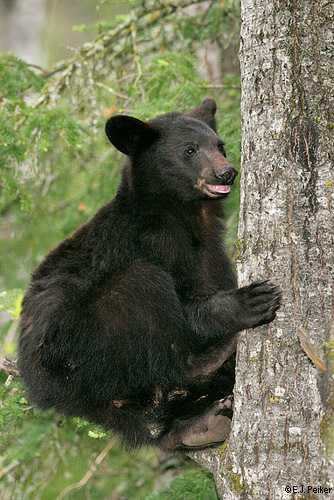bear: (108, 94, 236, 222), (157, 255, 285, 383)
